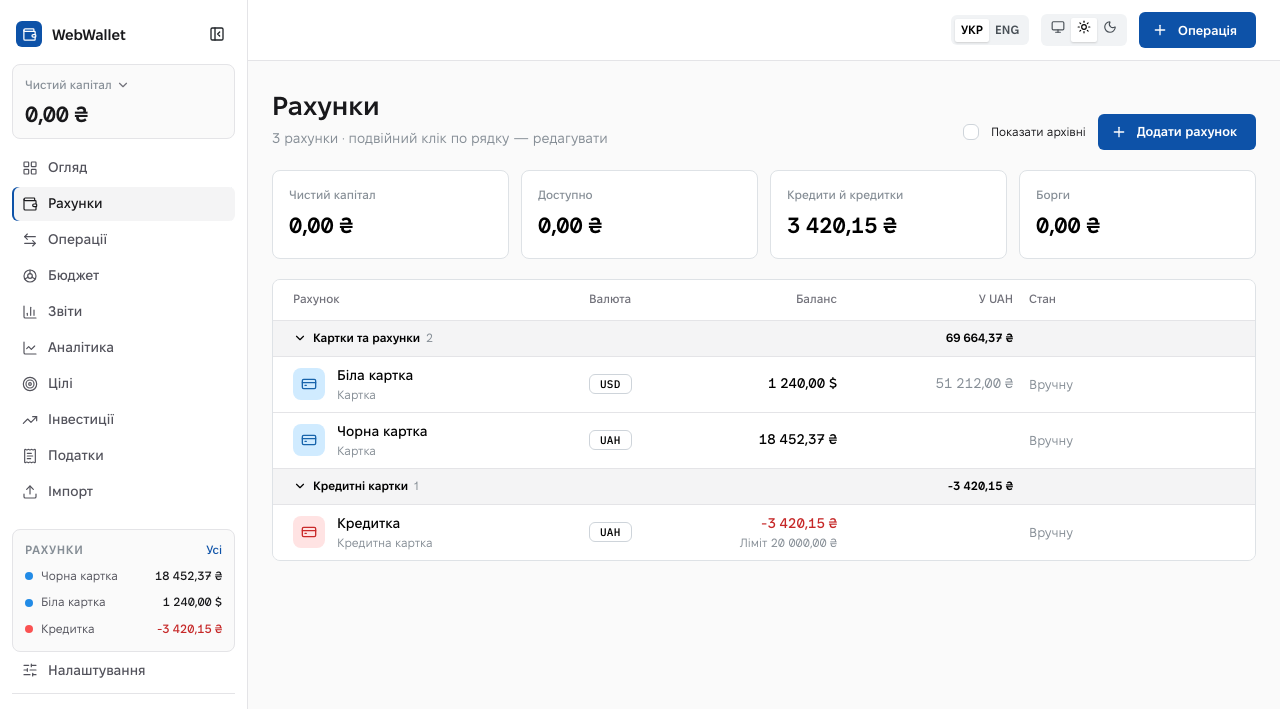
Scenario: opens the edit dialog on double click with the currency locked
Double-click the text "Кредитка" below "USD" at (369, 523), box [337, 515, 400, 531]
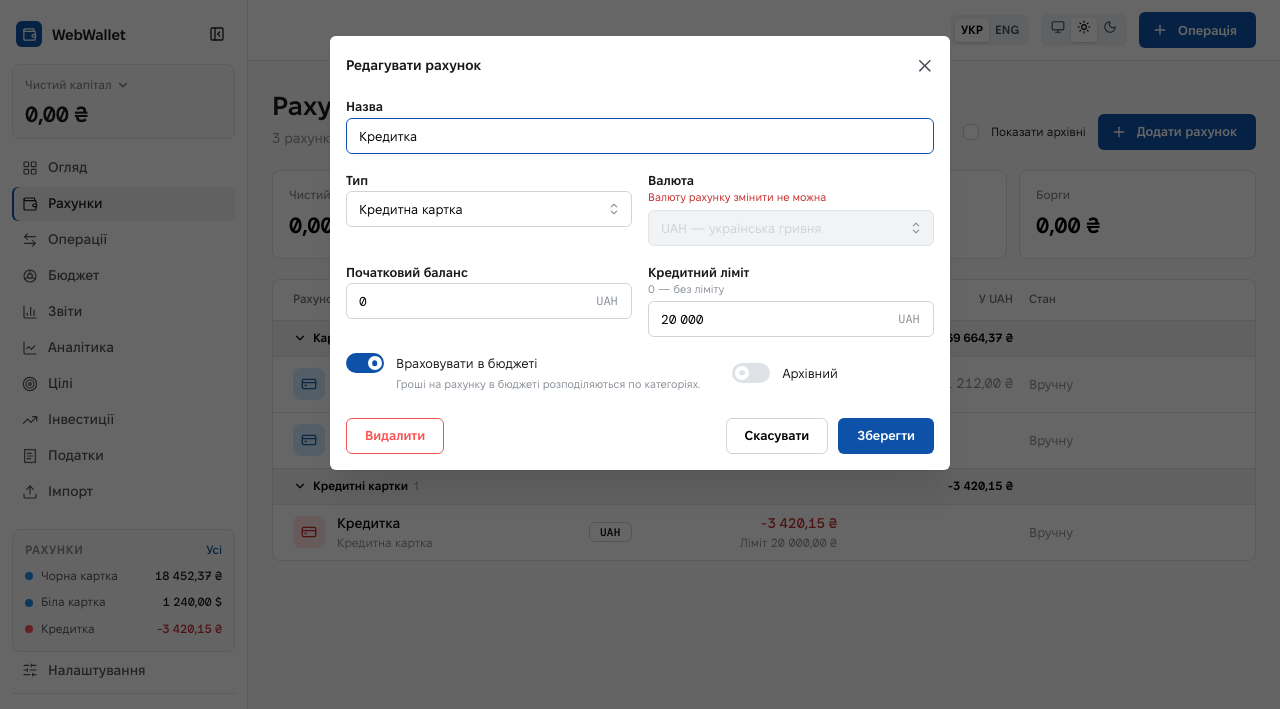
Result: the text "Редагувати рахунок" is shown at [346, 55, 481, 77]
Result: the field labelled "Назва" holds "Кредитка" at [346, 118, 934, 154]
Result: the text "Валюту рахунку змінити не можна" is shown at [648, 191, 826, 203]
